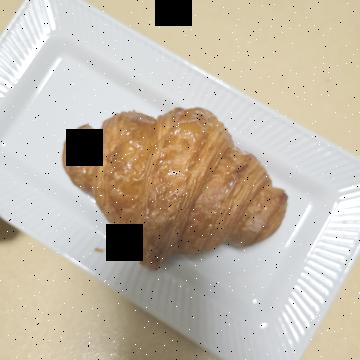croissant: (93, 55, 290, 298)
